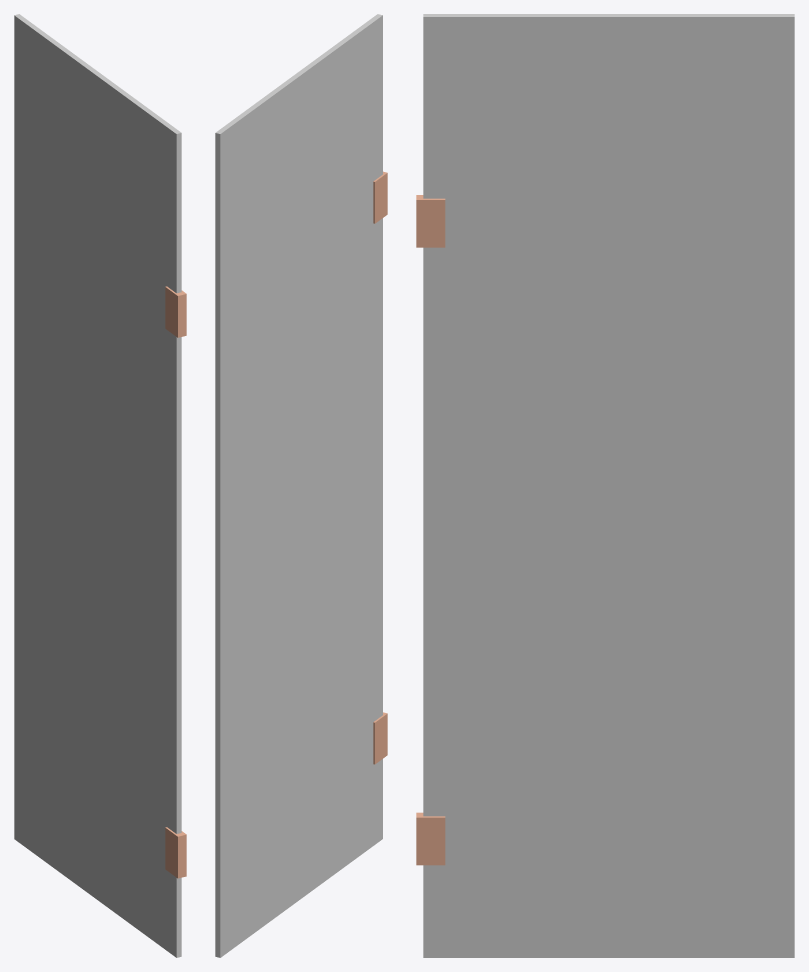
File: ShowerDoor_ec596f3a.obj
3 renders of one model, left to right at view 1: azimuth 30°, elevation 25°; view 2: azimuth 150°, elevation 25°; view 3: azimuth 270°, elevation 25°, orthographic. The views are drawn at different scales.
Parts seen in each view (by area): view 1: ShowerDoorMesh_a3e8f403, ShowerDoorHingeMesh_998e8e4a; view 2: ShowerDoorMesh_a3e8f403, ShowerDoorHingeMesh_998e8e4a; view 3: ShowerDoorMesh_a3e8f403, ShowerDoorHingeMesh_998e8e4a.
Boxes of the visible parts, box(x1,y1,x2,y2) form: ShowerDoorMesh_a3e8f403: box(14, 14, 181, 957); ShowerDoorHingeMesh_998e8e4a: box(165, 286, 186, 878); ShowerDoorMesh_a3e8f403: box(215, 14, 382, 957); ShowerDoorHingeMesh_998e8e4a: box(373, 171, 387, 764); ShowerDoorMesh_a3e8f403: box(423, 14, 794, 957); ShowerDoorHingeMesh_998e8e4a: box(416, 195, 445, 865).
Bounding box in the file's own units: 0.0241 × 2.13 × 0.7763.
